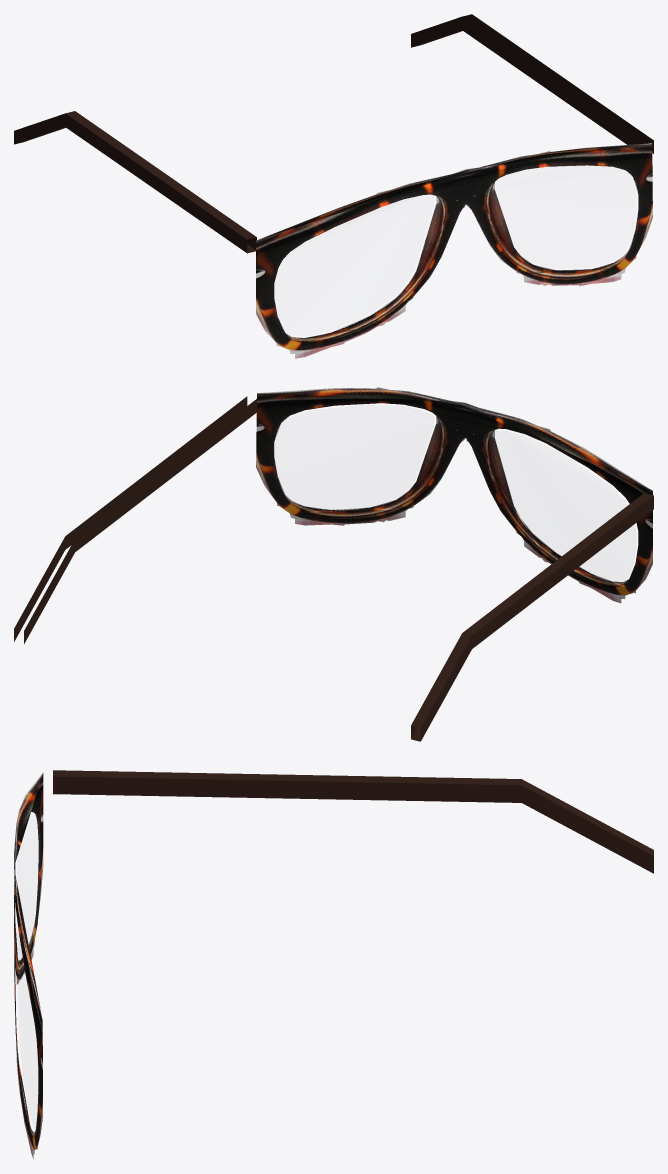
Rendered from gothamstyle-148-jr_amber.glb.
The picture shows the model from 3 angles, top to bottom: view 1: azimuth 30°, elevation 25°; view 2: azimuth 150°, elevation 25°; view 3: azimuth 270°, elevation 25°; orthographic projection. The views are drawn at different scales.
Parts seen in each view (by area): view 1: frame_front, temple_viewer_left, temple_viewer_right; view 2: frame_front, temple_viewer_left, temple_viewer_right; view 3: temple_viewer_left, frame_front.
Part boxes in pixels (left/top/right/bottom): frame_front: left=256, top=143, right=652, bottom=358; temple_viewer_left: left=14, top=111, right=256, bottom=253; temple_viewer_right: left=411, top=14, right=653, bottom=153; frame_front: left=256, top=387, right=652, bottom=603; temple_viewer_left: left=411, top=493, right=653, bottom=741; temple_viewer_right: left=14, top=396, right=256, bottom=643; temple_viewer_left: left=53, top=770, right=653, bottom=873; frame_front: left=14, top=772, right=43, bottom=1158.
Bounding box in the file's own units: 0.1238 × 0.0452 × 0.131.
3 materials, 2 textured.
